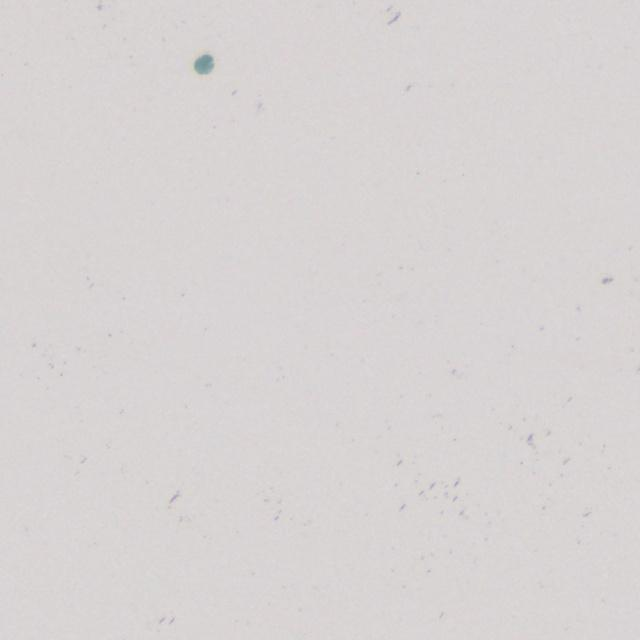non_viable: (194, 54, 214, 74)
